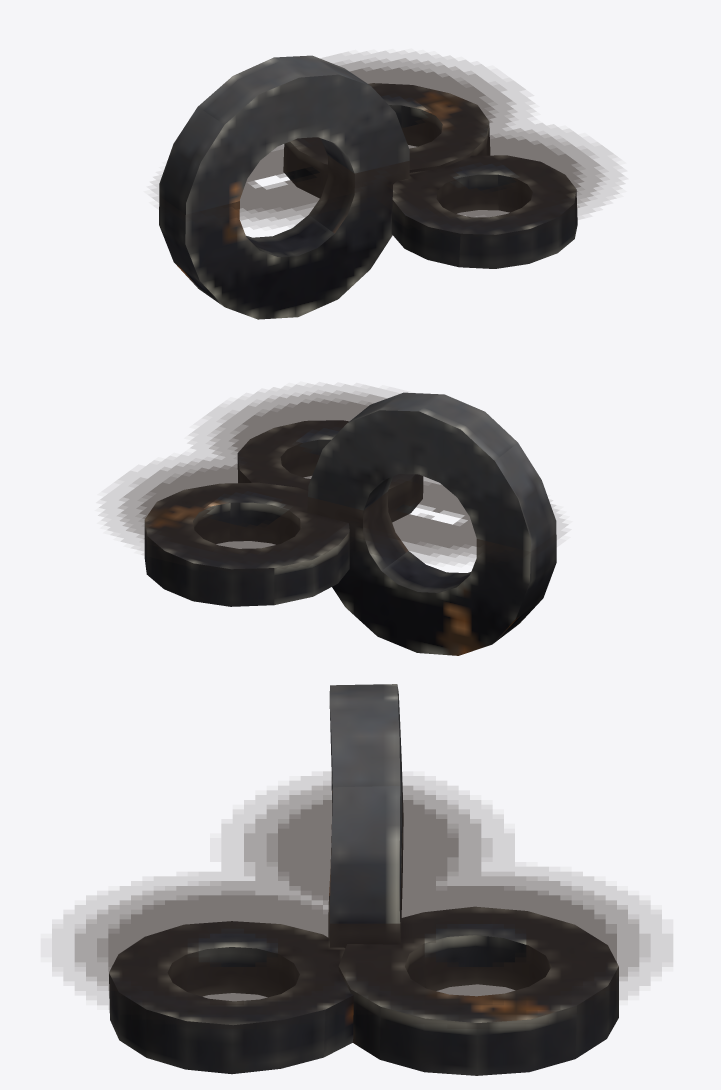
The picture shows the model from 3 angles, top to bottom: view 1: azimuth 30°, elevation 25°; view 2: azimuth 150°, elevation 25°; view 3: azimuth 270°, elevation 25°; orthographic projection. The views are drawn at different scales.
Parts seen in each view (by area): view 1: Tyre, GroundShade; view 2: Tyre, GroundShade; view 3: GroundShade, Tyre.
Boxes of the visible parts, x1,y1,x2,y2 form: Tyre: (159, 55, 577, 319); GroundShade: (152, 51, 622, 235); Tyre: (144, 392, 556, 655); GroundShade: (100, 384, 567, 571); GroundShade: (52, 772, 672, 1028); Tyre: (109, 684, 618, 1075).
Size of the model in its own units: 7.25 by 3.83 by 7.4.
Materials: 2 (2 with a texture image).
